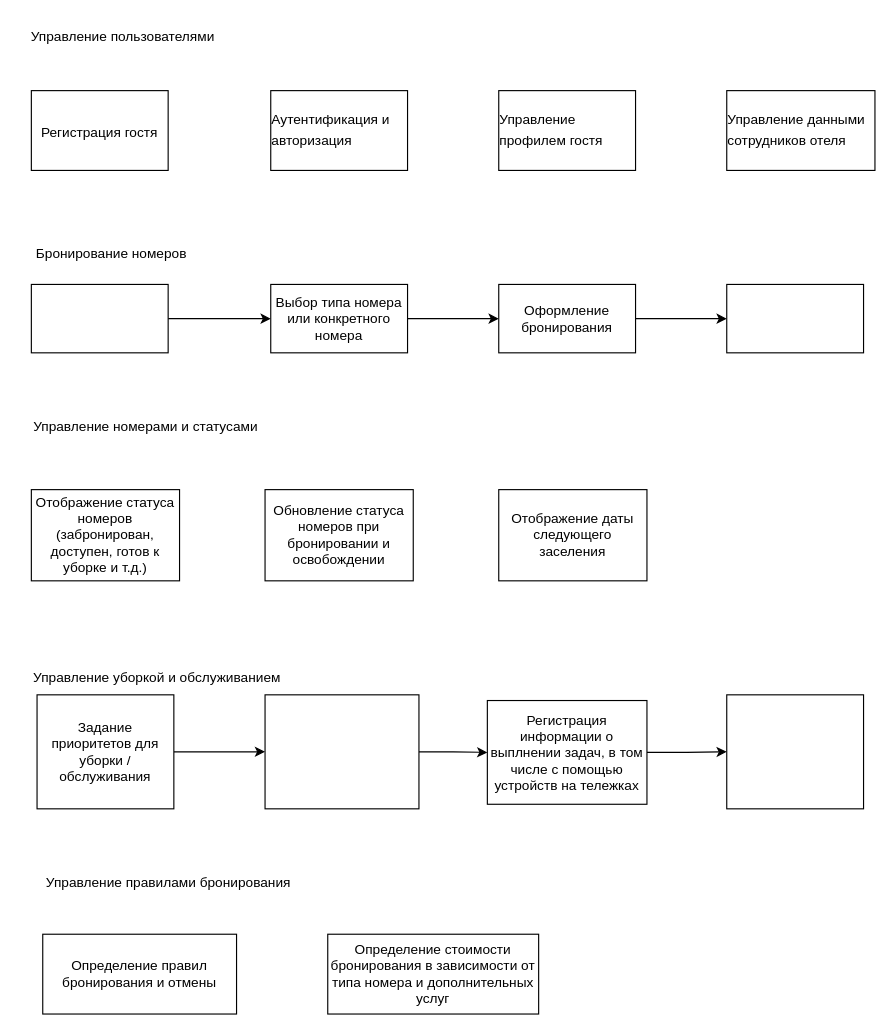
Image size: 895x1034. Some labels were removed from this diagram. The centre of each missing label's shape, as x and y in pixels:
"Оплата бронирования" goes at (x=795, y=318).
"Отслеживание состояния уборки" goes at (x=795, y=751).
"Просмотр доступных номеров и их характеристик" goes at (x=99, y=318).
"Распределение задач уборки / обслуживания сотрудникам отеля" goes at (x=341, y=751).
